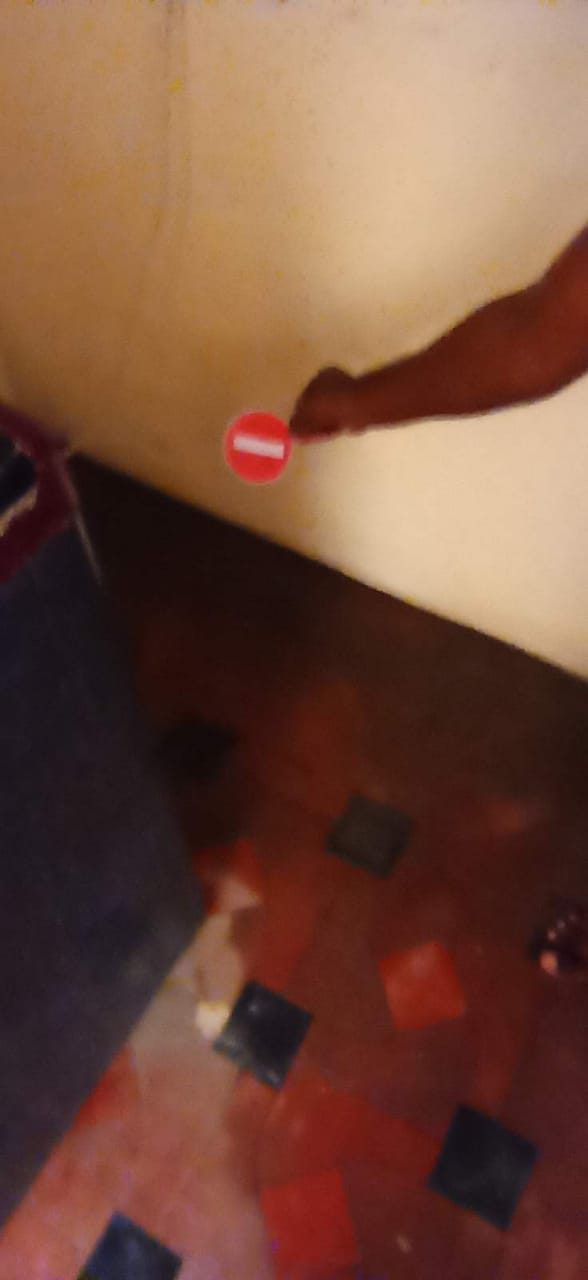NO ENTRY: (216, 407, 312, 487)
